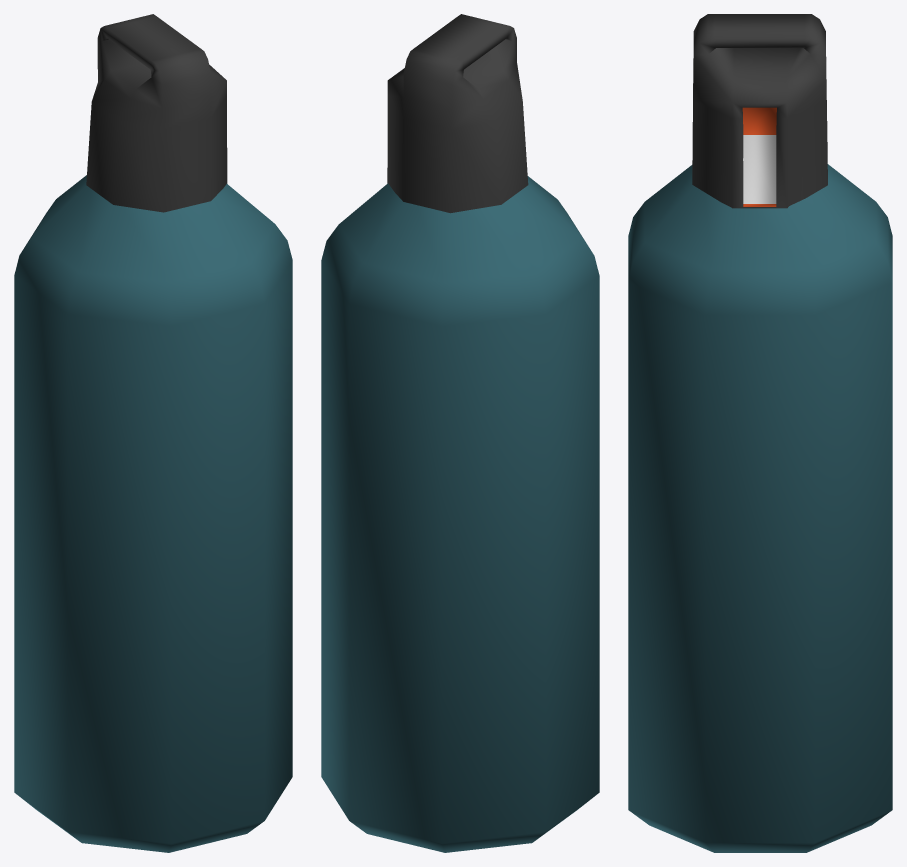
The model's file is Bottle.fbx.
3 renders of one model, left to right at view 1: azimuth 30°, elevation 25°; view 2: azimuth 150°, elevation 25°; view 3: azimuth 270°, elevation 25°, orthographic. The views are drawn at different scales.
Visible parts, largest first — view 1: Bottle; view 2: Bottle; view 3: Bottle.
Boxes of the visible parts, <box> form: Bottle: <box>14,14,292,852</box>; Bottle: <box>321,14,599,852</box>; Bottle: <box>628,14,892,852</box>.
Bounding box in the file's own units: 41.42 × 135 × 41.42.
